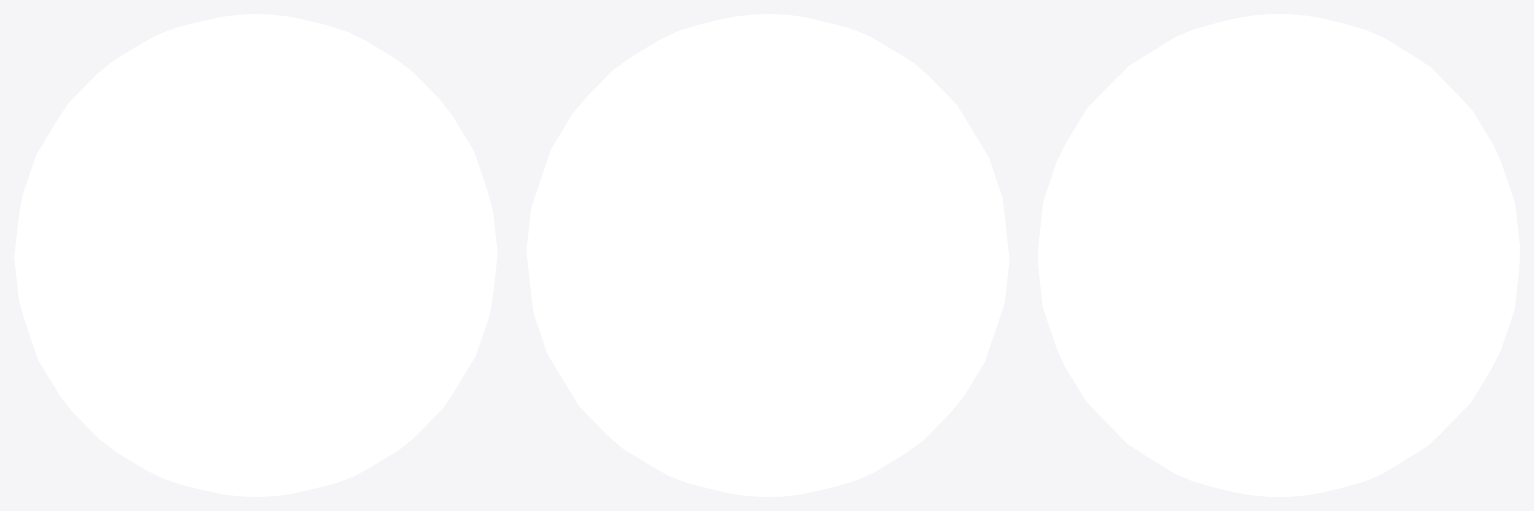
File: placeholder_sky.glb
The picture shows the model from 3 angles, left to right: view 1: azimuth 30°, elevation 25°; view 2: azimuth 150°, elevation 25°; view 3: azimuth 270°, elevation 25°; orthographic projection.
Visible parts, largest first — view 1: night_sky_test; view 2: night_sky_test; view 3: night_sky_test.
Part boxes in pixels (x1=…): night_sky_test: x1=14, y1=14, x2=497, y2=496; night_sky_test: x1=526, y1=14, x2=1009, y2=496; night_sky_test: x1=1038, y1=14, x2=1519, y2=496.
Size of the model in its own units: 36.8 by 36.94 by 36.8.
Materials: 1 (1 with a texture image).
